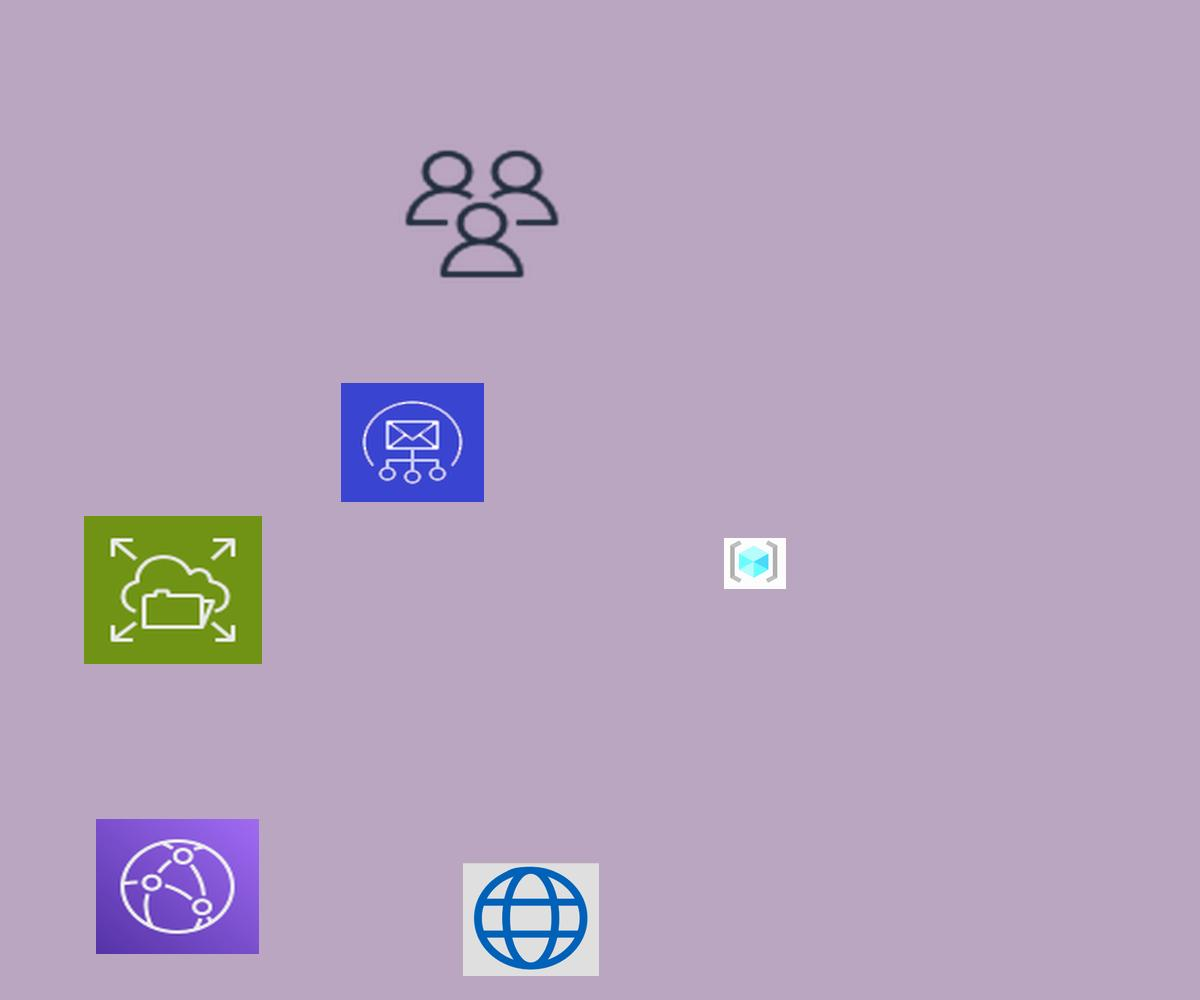AWS-CloudFront: (96, 819, 259, 954)
AWS-EFS: (84, 516, 262, 664)
AWS-Res_Users: (399, 145, 565, 283)
AWS-Simple-Email-Service: (341, 383, 484, 502)
Azure_http: (463, 863, 599, 976)
Azure_resource_group: (724, 538, 786, 589)
